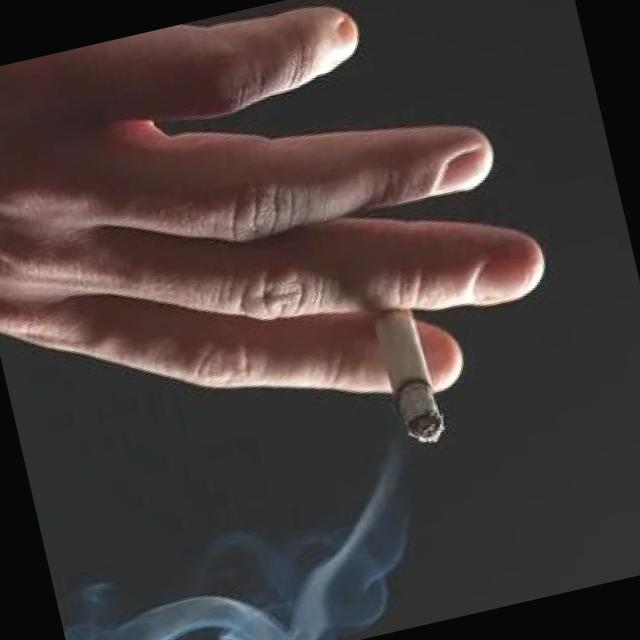smoke: (360, 297, 454, 455)
